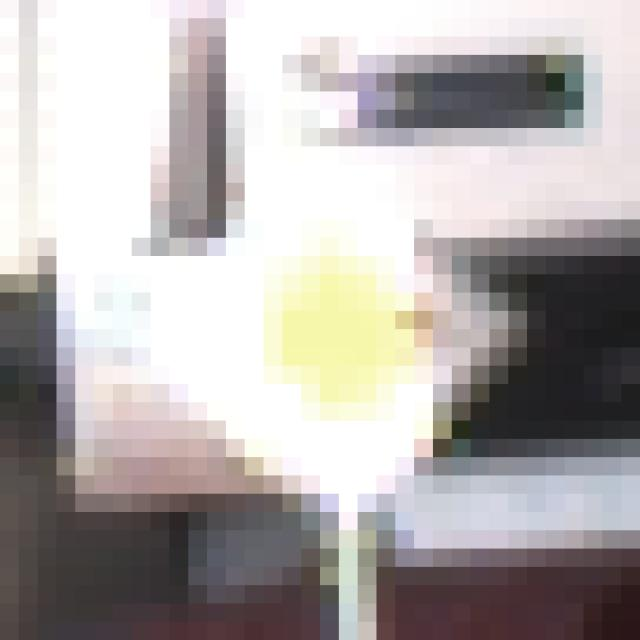Main Road: (95, 111, 547, 550)
